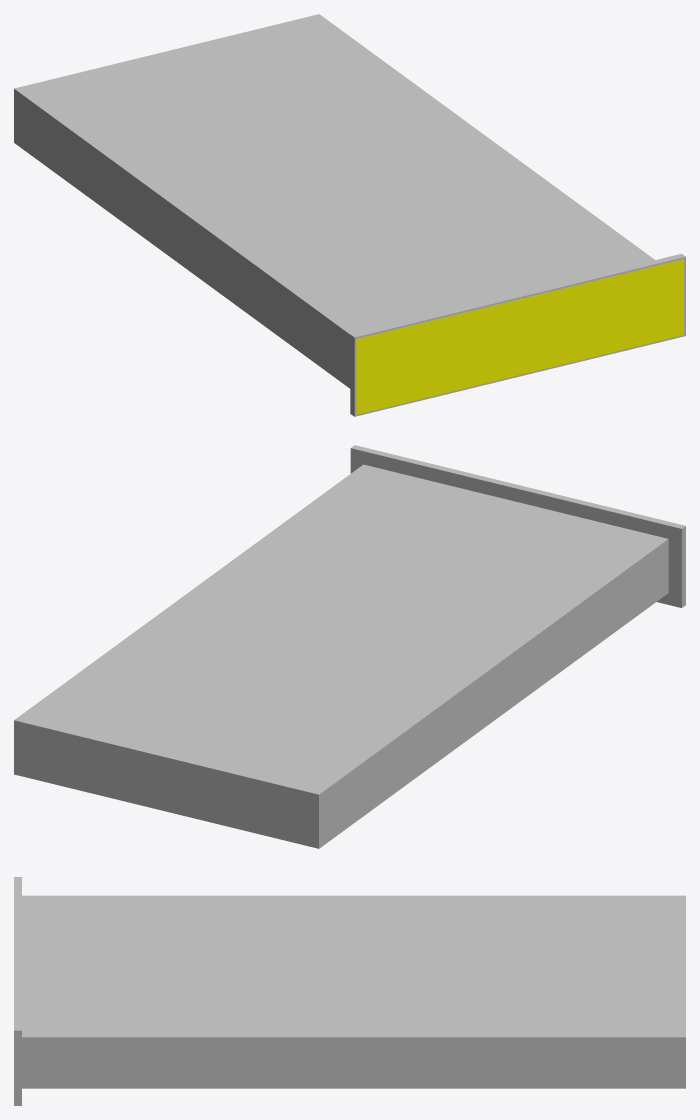
File: sm_hana_pgs_full_sign.glb
The picture shows the model from 3 angles, top to bottom: view 1: azimuth 30°, elevation 25°; view 2: azimuth 150°, elevation 25°; view 3: azimuth 270°, elevation 25°; orthographic projection. The views are drawn at different scales.
Visible parts, largest first — view 1: sm_color_common, sm_hana_pgs_full_sign; view 2: sm_color_common; view 3: sm_color_common.
Boxes of the visible parts, <box> form: sm_color_common: <box>14,14,685,416</box>; sm_hana_pgs_full_sign: <box>356,259,683,414</box>; sm_color_common: <box>14,445,685,848</box>; sm_color_common: <box>14,877,685,1105</box>.
Bounding box in the file's own units: 1.49 × 0.3411 × 2.76.
2 materials, 1 textured.
